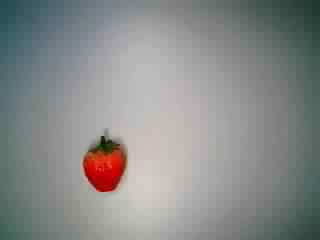strawberry: (74, 132, 142, 196)
